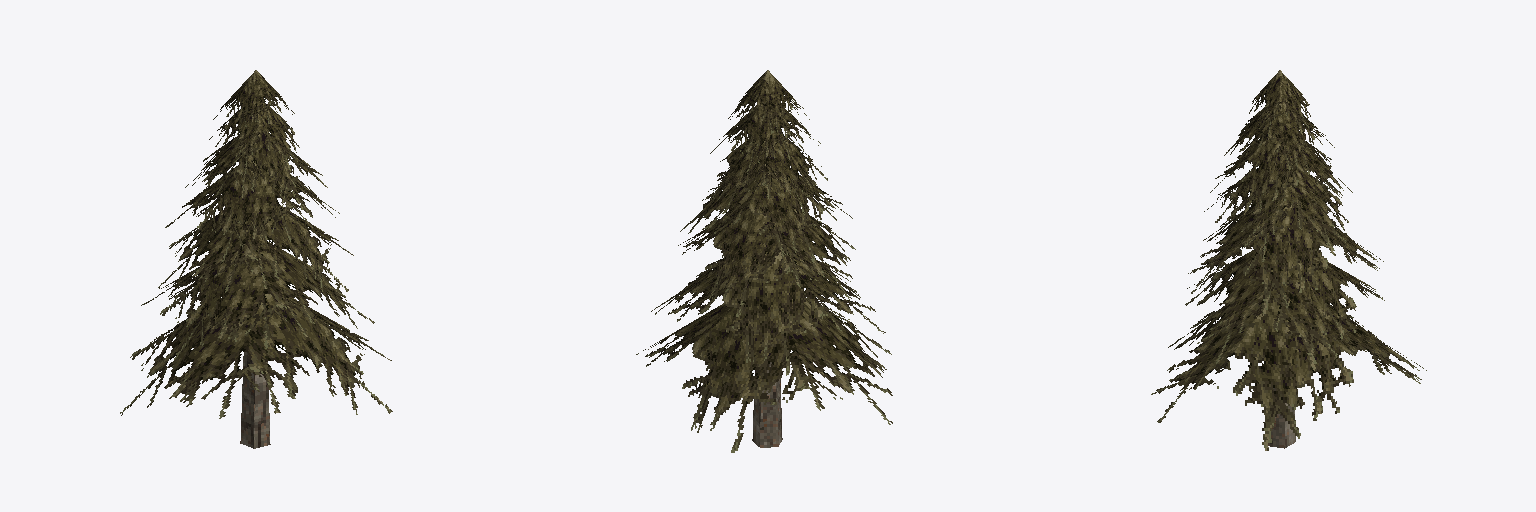
The picture shows the model from 3 angles: view 1: azimuth 30°, elevation 25°; view 2: azimuth 150°, elevation 25°; view 3: azimuth 270°, elevation 25°; orthographic projection.
Parts seen in each view (by area): view 1: pine_1; view 2: pine_1; view 3: pine_1.
Boxes of the visible parts, box(x1,y1,x2,y2) form: pine_1: box(120, 70, 392, 448); pine_1: box(636, 70, 892, 452); pine_1: box(1151, 70, 1426, 450).
Size of the model in its own units: 6.1 by 7.52 by 6.1.
2 materials, 2 textured.